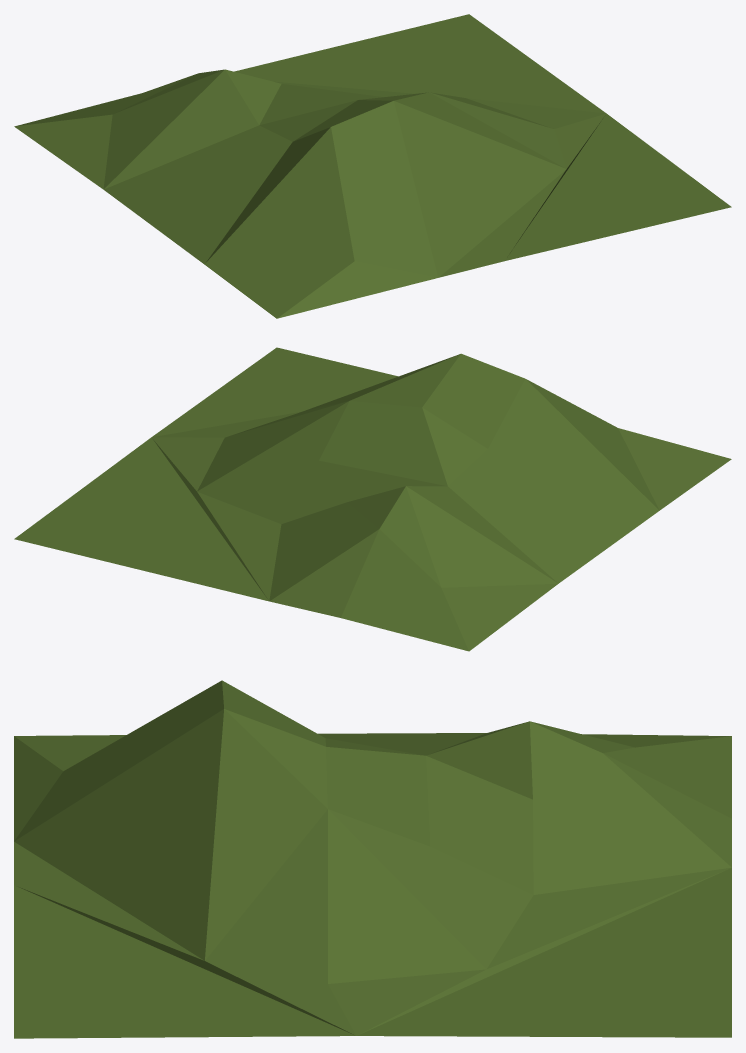
Rendered from LightVegetationFloorMediumMound1.fbx.
3 renders of one model, top to bottom at view 1: azimuth 30°, elevation 25°; view 2: azimuth 150°, elevation 25°; view 3: azimuth 270°, elevation 25°, orthographic. The views are drawn at different scales.
Parts seen in each view (by area): view 1: LightVegetationFloorMediumMound1; view 2: LightVegetationFloorMediumMound1; view 3: LightVegetationFloorMediumMound1.
Part boxes in pixels (left/top/right/bottom): LightVegetationFloorMediumMound1: left=14, top=14, right=731, bottom=318; LightVegetationFloorMediumMound1: left=14, top=347, right=731, bottom=651; LightVegetationFloorMediumMound1: left=14, top=680, right=731, bottom=1038.
Size of the model in its own units: 700 by 168 by 700.
